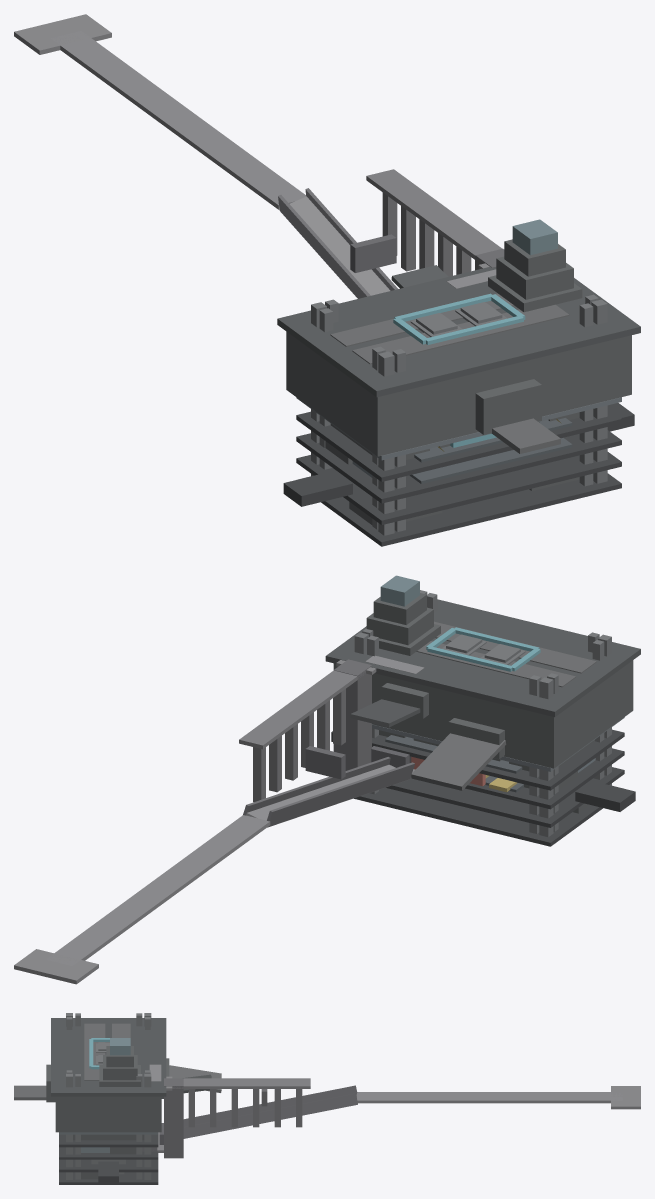
The model's file is PRIM3_Site0_Master_Facility_v03.glb.
3 renders of one model, top to bottom at view 1: azimuth 30°, elevation 25°; view 2: azimuth 150°, elevation 25°; view 3: azimuth 270°, elevation 25°, orthographic. The views are drawn at different scales.
Visible parts, largest first — view 1: SHELL_MAIN_RECTANGLE, L3_FLIGHT_DECK, PRIME_OFFSITE_SURFACE_ESCAPE_STRIP, B4_DEEP_TRANSIT_LOGISTICS_FLOOR, B5_GLOBAL_COORDINATION_RESILIENCE_FLOOR, B3_PRIME_COMMAND_SUSTAINMENT_FLOOR, B2_INDUSTRIAL_PRODUCTION_FLOOR, L3_PRIME_ELEVATED_DEPARTURE_SPUR, NORTH_FRONT_FORMAL_ENTRY, L3_LAUNCH_TAKEOFF_RUN, PRIME_OFFSITE_MARSHALLING_APRON, PRIME_DIRECT_SURFACE_ESCAPE_RAMP (+20 smaller); view 2: L3_FLIGHT_DECK, SHELL_MAIN_RECTANGLE, PRIME_OFFSITE_SURFACE_ESCAPE_STRIP, B5_GLOBAL_COORDINATION_RESILIENCE_FLOOR, B4_DEEP_TRANSIT_LOGISTICS_FLOOR, SOUTH_LOWER_HEAVY_DEPLOYMENT_RAMP, L3_PRIME_ELEVATED_DEPARTURE_SPUR, P1_PRIME_EXTERNAL_HEAVY_LIFT_SHAFT, PRIME_ESCAPE_RAMP_WALL_W, B2_INDUSTRIAL_PRODUCTION_FLOOR, B3_PRIME_COMMAND_SUSTAINMENT_FLOOR, PRIME_OFFSITE_MARSHALLING_APRON (+23 smaller); view 3: L3_FLIGHT_DECK, SHELL_MAIN_RECTANGLE, PRIME_OFFSITE_SURFACE_ESCAPE_STRIP, PRIME_ESCAPE_RAMP_WALL_E, P1_PRIME_EXTERNAL_HEAVY_LIFT_SHAFT, L3_PRIME_ELEVATED_DEPARTURE_SPUR, PRIME_ESCAPE_RAMP_WALL_W, B4_DEEP_TRANSIT_LOGISTICS_FLOOR, B2_INDUSTRIAL_PRODUCTION_FLOOR, L3_LAUNCH_TAKEOFF_RUN, B5_GLOBAL_COORDINATION_RESILIENCE_FLOOR, B3_PRIME_COMMAND_SUSTAINMENT_FLOOR (+21 smaller).
Part boxes in pixels (x1,y1,x2,y2): SHELL_MAIN_RECTANGLE: [286, 331, 631, 456]; L3_FLIGHT_DECK: [277, 266, 640, 397]; PRIME_OFFSITE_SURFACE_ESCAPE_STRIP: [51, 31, 306, 209]; B4_DEEP_TRANSIT_LOGISTICS_FLOOR: [296, 452, 621, 525]; B5_GLOBAL_COORDINATION_RESILIENCE_FLOOR: [306, 473, 621, 546]; B3_PRIME_COMMAND_SUSTAINMENT_FLOOR: [296, 430, 621, 503]; B2_INDUSTRIAL_PRODUCTION_FLOOR: [296, 408, 621, 481]; L3_PRIME_ELEVATED_DEPARTURE_SPUR: [366, 169, 501, 259]; NORTH_FRONT_FORMAL_ENTRY: [475, 379, 541, 434]; L3_LAUNCH_TAKEOFF_RUN: [352, 304, 569, 364]; PRIME_OFFSITE_MARSHALLING_APRON: [14, 14, 111, 54]; PRIME_DIRECT_SURFACE_ESCAPE_RAMP: [290, 196, 390, 295]; L3_FLIGHT_DECK: [325, 599, 640, 717]; SHELL_MAIN_RECTANGLE: [333, 660, 633, 768]; PRIME_OFFSITE_SURFACE_ESCAPE_STRIP: [46, 815, 270, 965]; B5_GLOBAL_COORDINATION_RESILIENCE_FLOOR: [354, 787, 602, 846]; B4_DEEP_TRANSIT_LOGISTICS_FLOOR: [386, 767, 624, 827]; SOUTH_LOWER_HEAVY_DEPLOYMENT_RAMP: [411, 733, 506, 790]; L3_PRIME_ELEVATED_DEPARTURE_SPUR: [239, 670, 365, 749]; P1_PRIME_EXTERNAL_HEAVY_LIFT_SHAFT: [333, 659, 371, 770]; PRIME_ESCAPE_RAMP_WALL_W: [267, 762, 414, 826]; B2_INDUSTRIAL_PRODUCTION_FLOOR: [372, 729, 624, 790]; B3_PRIME_COMMAND_SUSTAINMENT_FLOOR: [465, 748, 624, 809]; PRIME_OFFSITE_MARSHALLING_APRON: [14, 949, 98, 984]; L3_FLIGHT_DECK: [51, 1018, 166, 1096]; SHELL_MAIN_RECTANGLE: [55, 1096, 161, 1132]; PRIME_OFFSITE_SURFACE_ESCAPE_STRIP: [357, 1092, 622, 1103]; PRIME_ESCAPE_RAMP_WALL_E: [183, 1093, 357, 1138]; P1_PRIME_EXTERNAL_HEAVY_LIFT_SHAFT: [164, 1078, 183, 1158]; L3_PRIME_ELEVATED_DEPARTURE_SPUR: [172, 1078, 310, 1088]; PRIME_ESCAPE_RAMP_WALL_W: [183, 1085, 357, 1126]; B4_DEEP_TRANSIT_LOGISTICS_FLOOR: [59, 1159, 158, 1172]; B2_INDUSTRIAL_PRODUCTION_FLOOR: [59, 1134, 158, 1147]; L3_LAUNCH_TAKEOFF_RUN: [84, 1023, 105, 1080]; B5_GLOBAL_COORDINATION_RESILIENCE_FLOOR: [59, 1172, 158, 1184]; B3_PRIME_COMMAND_SUSTAINMENT_FLOOR: [59, 1147, 158, 1159].
Size of the model in its own units: 1.94 by 1.27 by 5.43.
